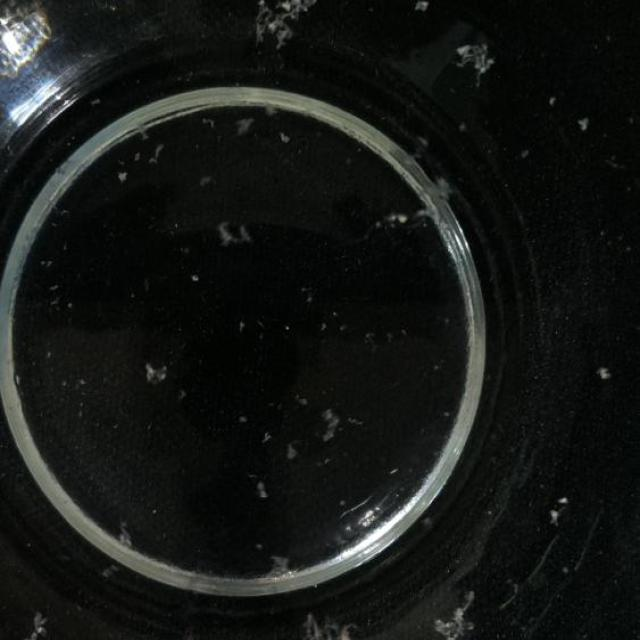fiber: (415, 160, 481, 261), (243, 0, 342, 63), (426, 589, 481, 639), (284, 606, 362, 638), (457, 32, 500, 90), (320, 404, 360, 447), (215, 208, 252, 250), (136, 351, 172, 386), (10, 616, 58, 639), (593, 351, 615, 391), (266, 548, 293, 580), (252, 464, 276, 498), (114, 515, 142, 543), (283, 429, 305, 464), (232, 107, 253, 143), (576, 112, 594, 141), (116, 166, 135, 193), (278, 124, 296, 150), (266, 94, 284, 118), (409, 0, 431, 19)
